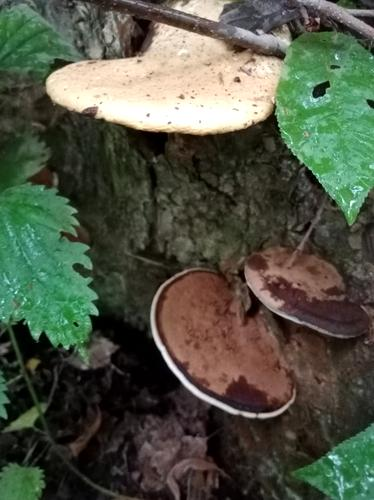Ganoderma - Fruit Body: (148, 262, 295, 420), (238, 247, 374, 352)
